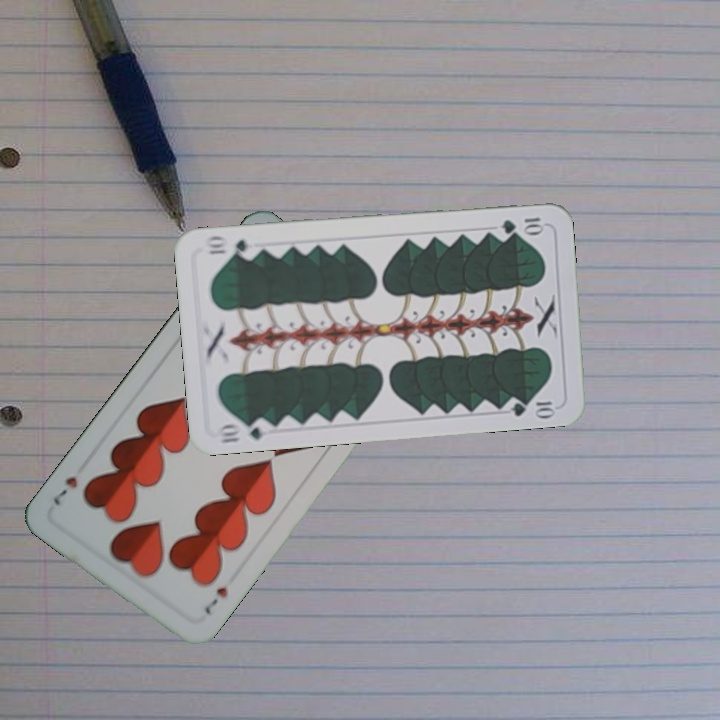G10: (214, 415, 273, 446), (497, 213, 547, 236)
H7: (200, 582, 231, 616)
